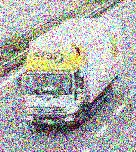truck: (17, 13, 126, 132)
